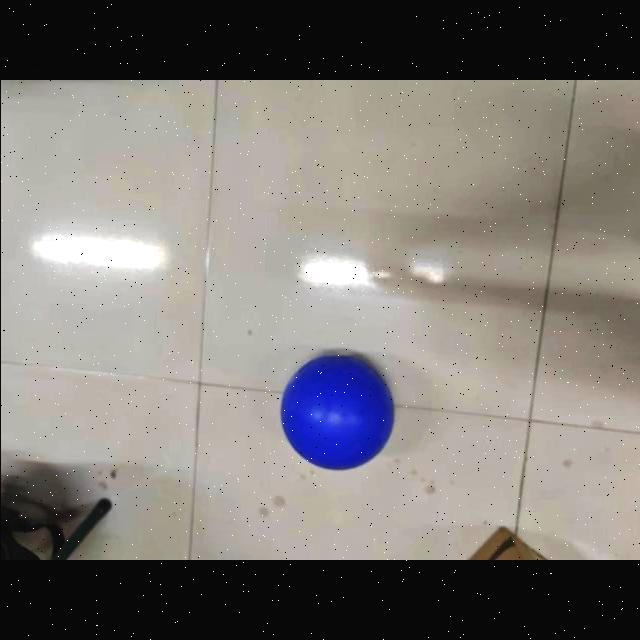B: (275, 353, 393, 473)
